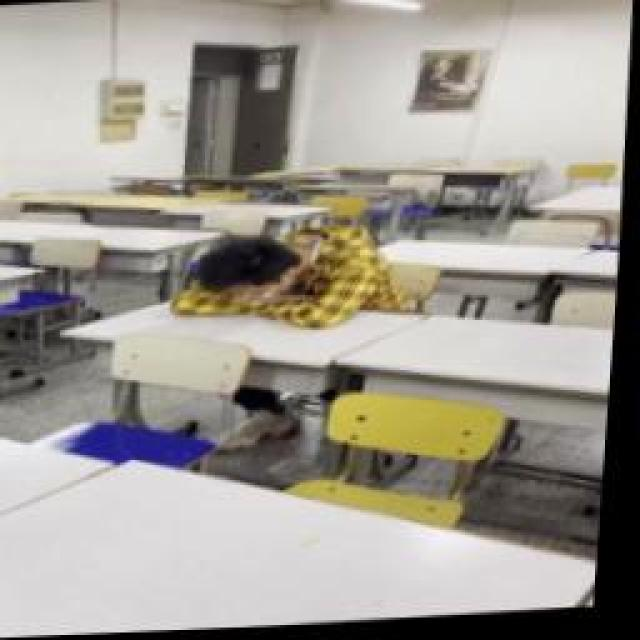sleep: (170, 215, 415, 340)
